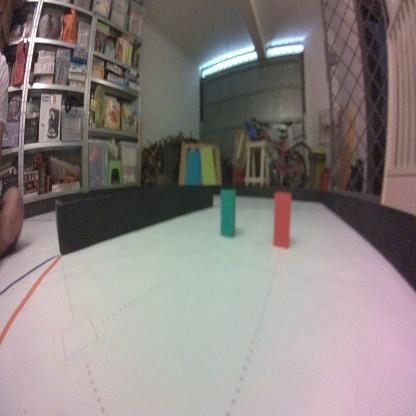green: (219, 186, 237, 237)
red: (272, 192, 291, 250)
